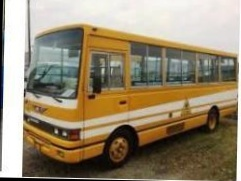bus: (23, 20, 239, 173)
